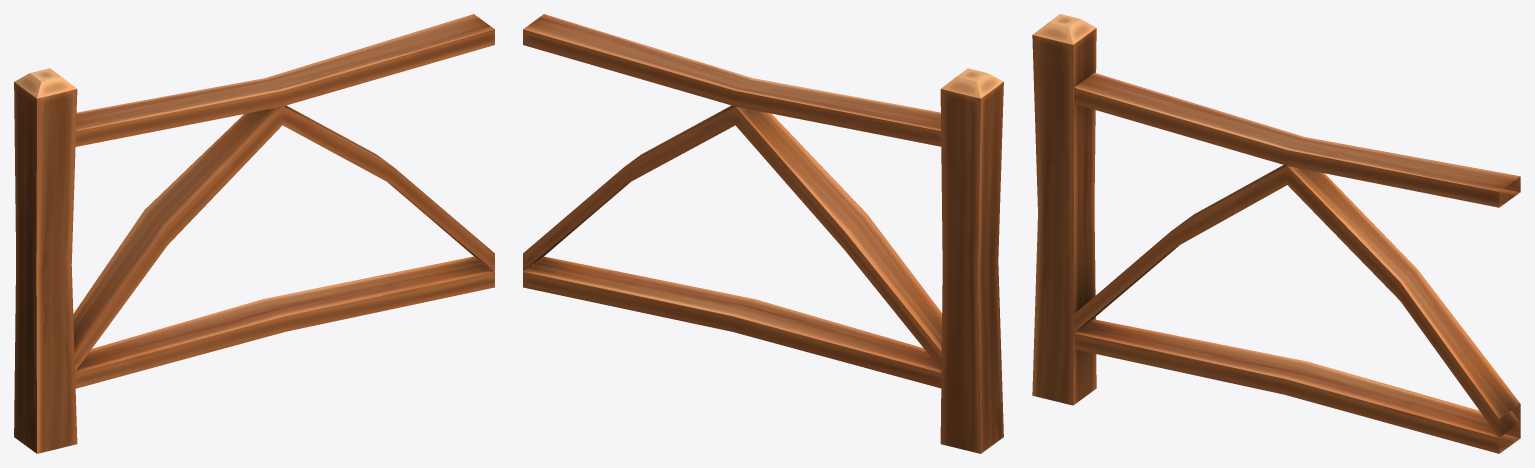
Rendered from Fences01_3.FBX.
The picture shows the model from 3 angles, left to right: view 1: azimuth 30°, elevation 25°; view 2: azimuth 150°, elevation 25°; view 3: azimuth 330°, elevation 25°; orthographic projection.
Visible parts, largest first — view 1: Fences01_3; view 2: Fences01_3; view 3: Fences01_3.
Part boxes in pixels (x1=…): Fences01_3: x1=14, y1=14, x2=494, y2=453; Fences01_3: x1=523, y1=14, x2=1003, y2=453; Fences01_3: x1=1032, y1=14, x2=1520, y2=453.
Size of what is drawn, in the model's own units: 1.76 by 1.34 by 0.1726.
